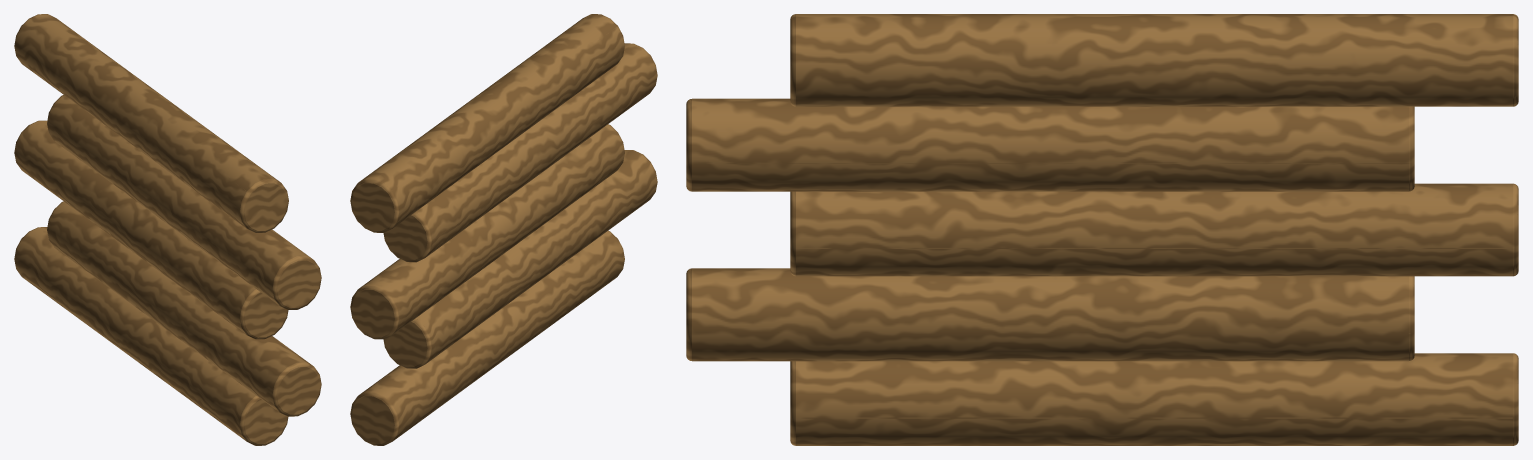
The model's file is tahtaduvar.fbx.
3 renders of one model, left to right at view 1: azimuth 30°, elevation 25°; view 2: azimuth 150°, elevation 25°; view 3: azimuth 270°, elevation 25°, orthographic. The views are drawn at different scales.
Parts seen in each view (by area): view 1: Circle.001; view 2: Circle.001; view 3: Circle.001.
Boxes of the visible parts, box(x1,y1,x2,y2) form: Circle.001: box(14, 14, 321, 445); Circle.001: box(350, 14, 657, 445); Circle.001: box(686, 14, 1518, 445).
Size of the model in its own units: 172 by 899 by 1600.
